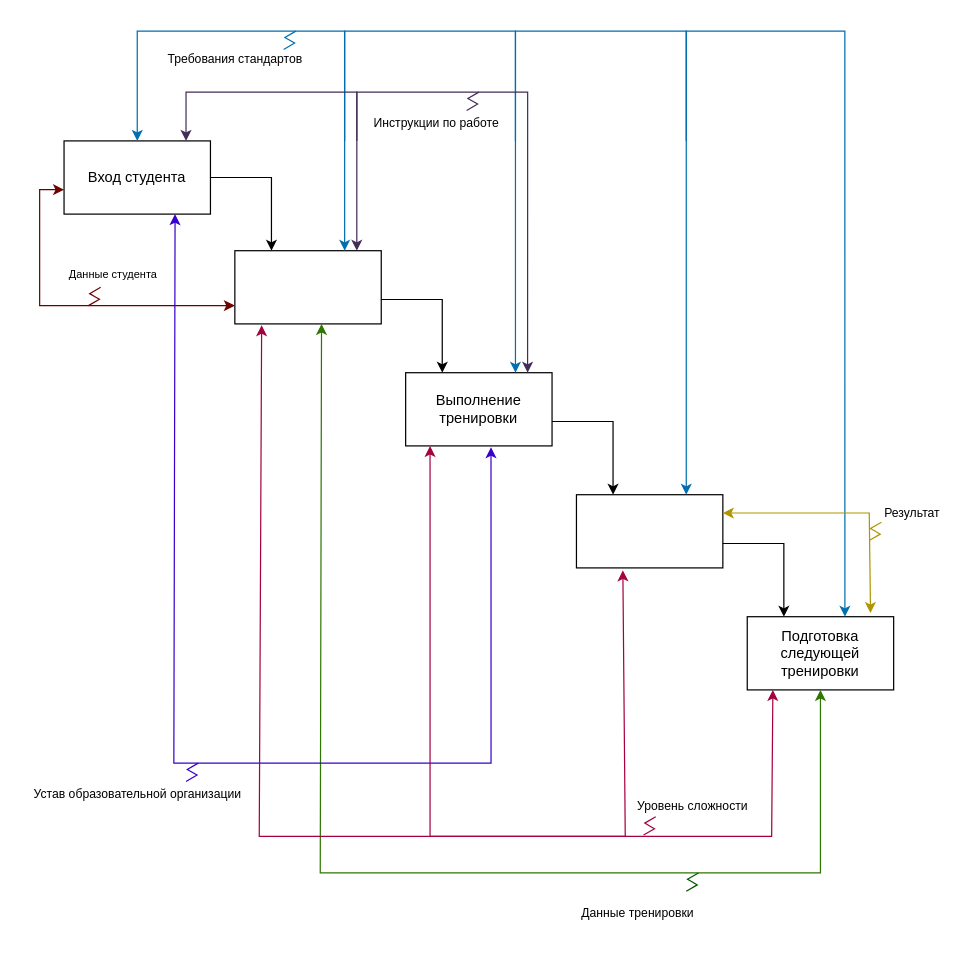
Some shapes in this 975 by 953 pixel diagram are drawn without their labels. The shapes that lost their labels are listed below. From the top down, each one's centre as x and y in pixels, then its label:
point 307,286: Выбор дисциплины и тренировки
point 649,530: Запись результата
